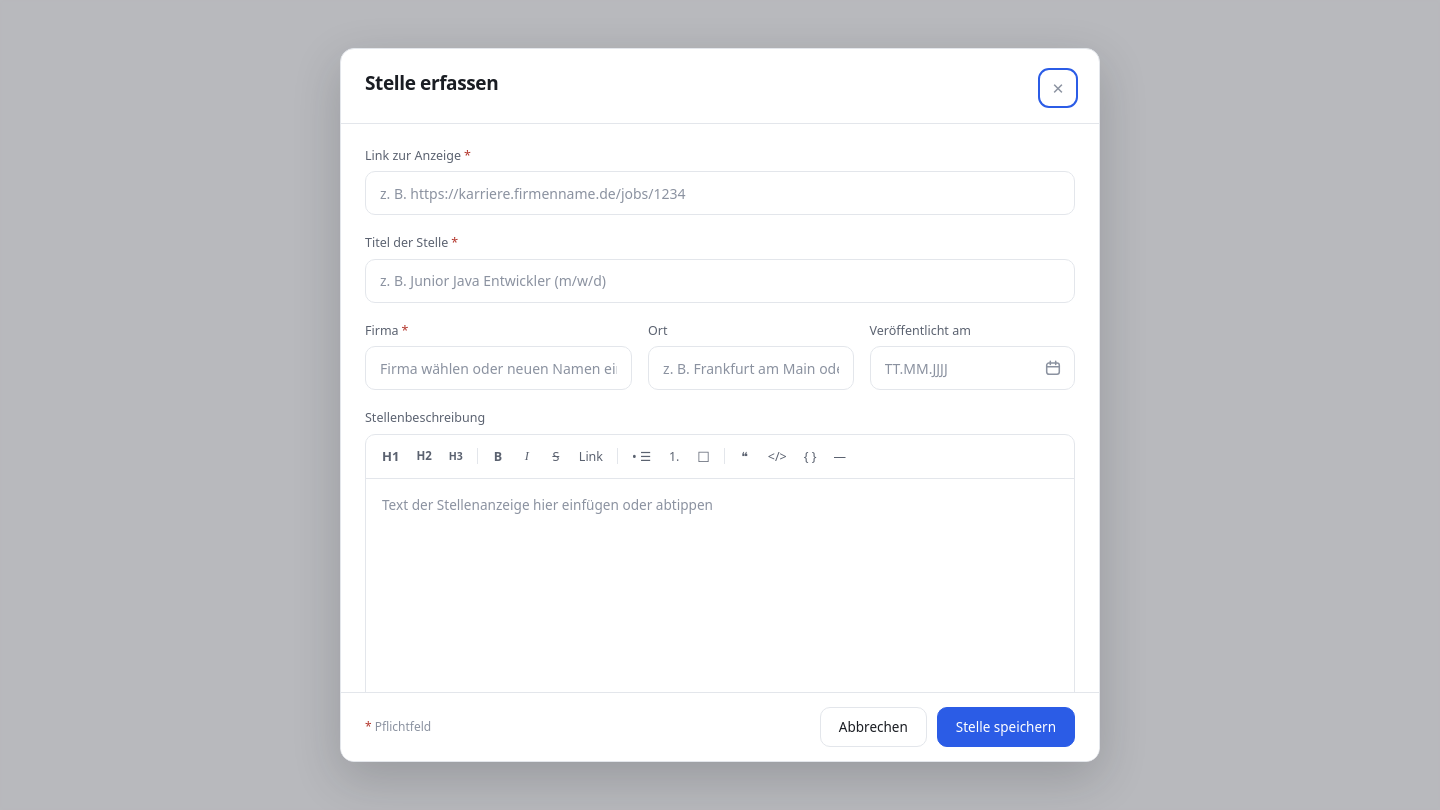
it: NewPostingDialog › meldet alle fehlenden Pflichtfelder am Feld
Click the button "Stelle speichern" at (1006, 727), box [937,707,1075,747]
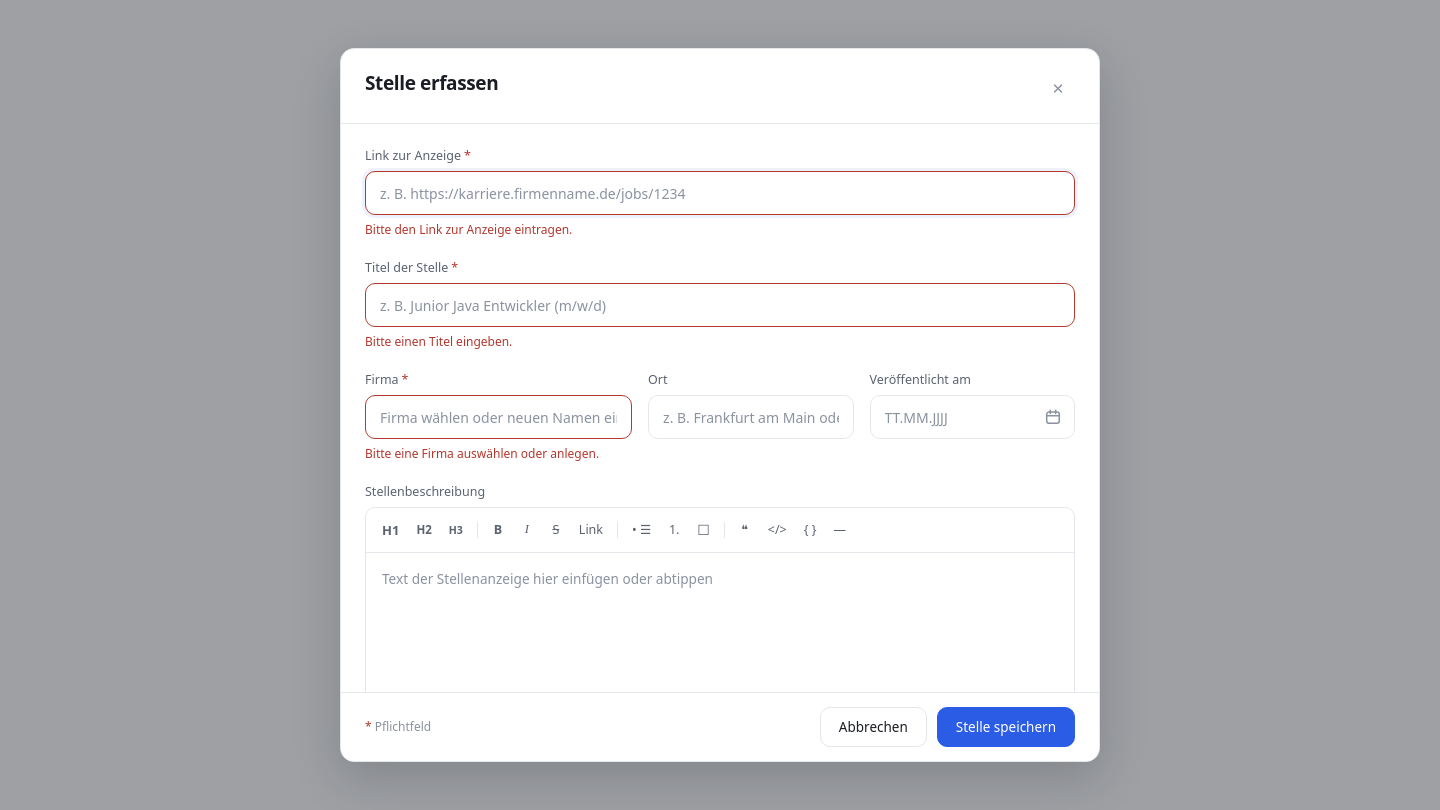
expect the messages read "Bitte den Link zur Anzeige eintragen.", "Bitte einen Titel eingeben.", "Bitte eine Firma auswählen oder anlegen.", in this order: met, box [365,221,572,238]; [365,333,512,350]; [365,445,632,464]
Type "Dev" into the field labelled "Titel der Stelle" at (720, 305), box [365,283,1075,327]
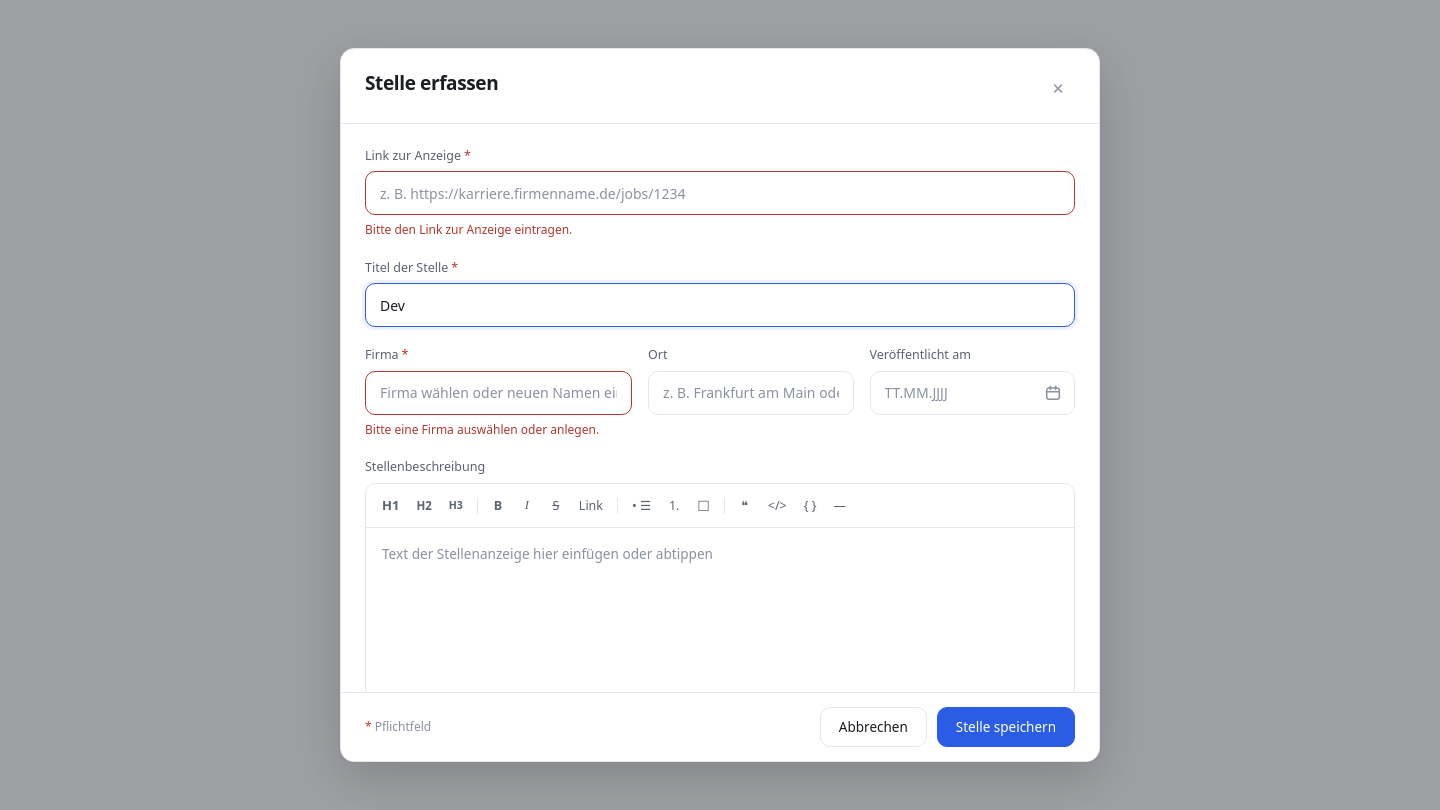
expect the text "Bitte einen Titel eingeben." is gone: met
